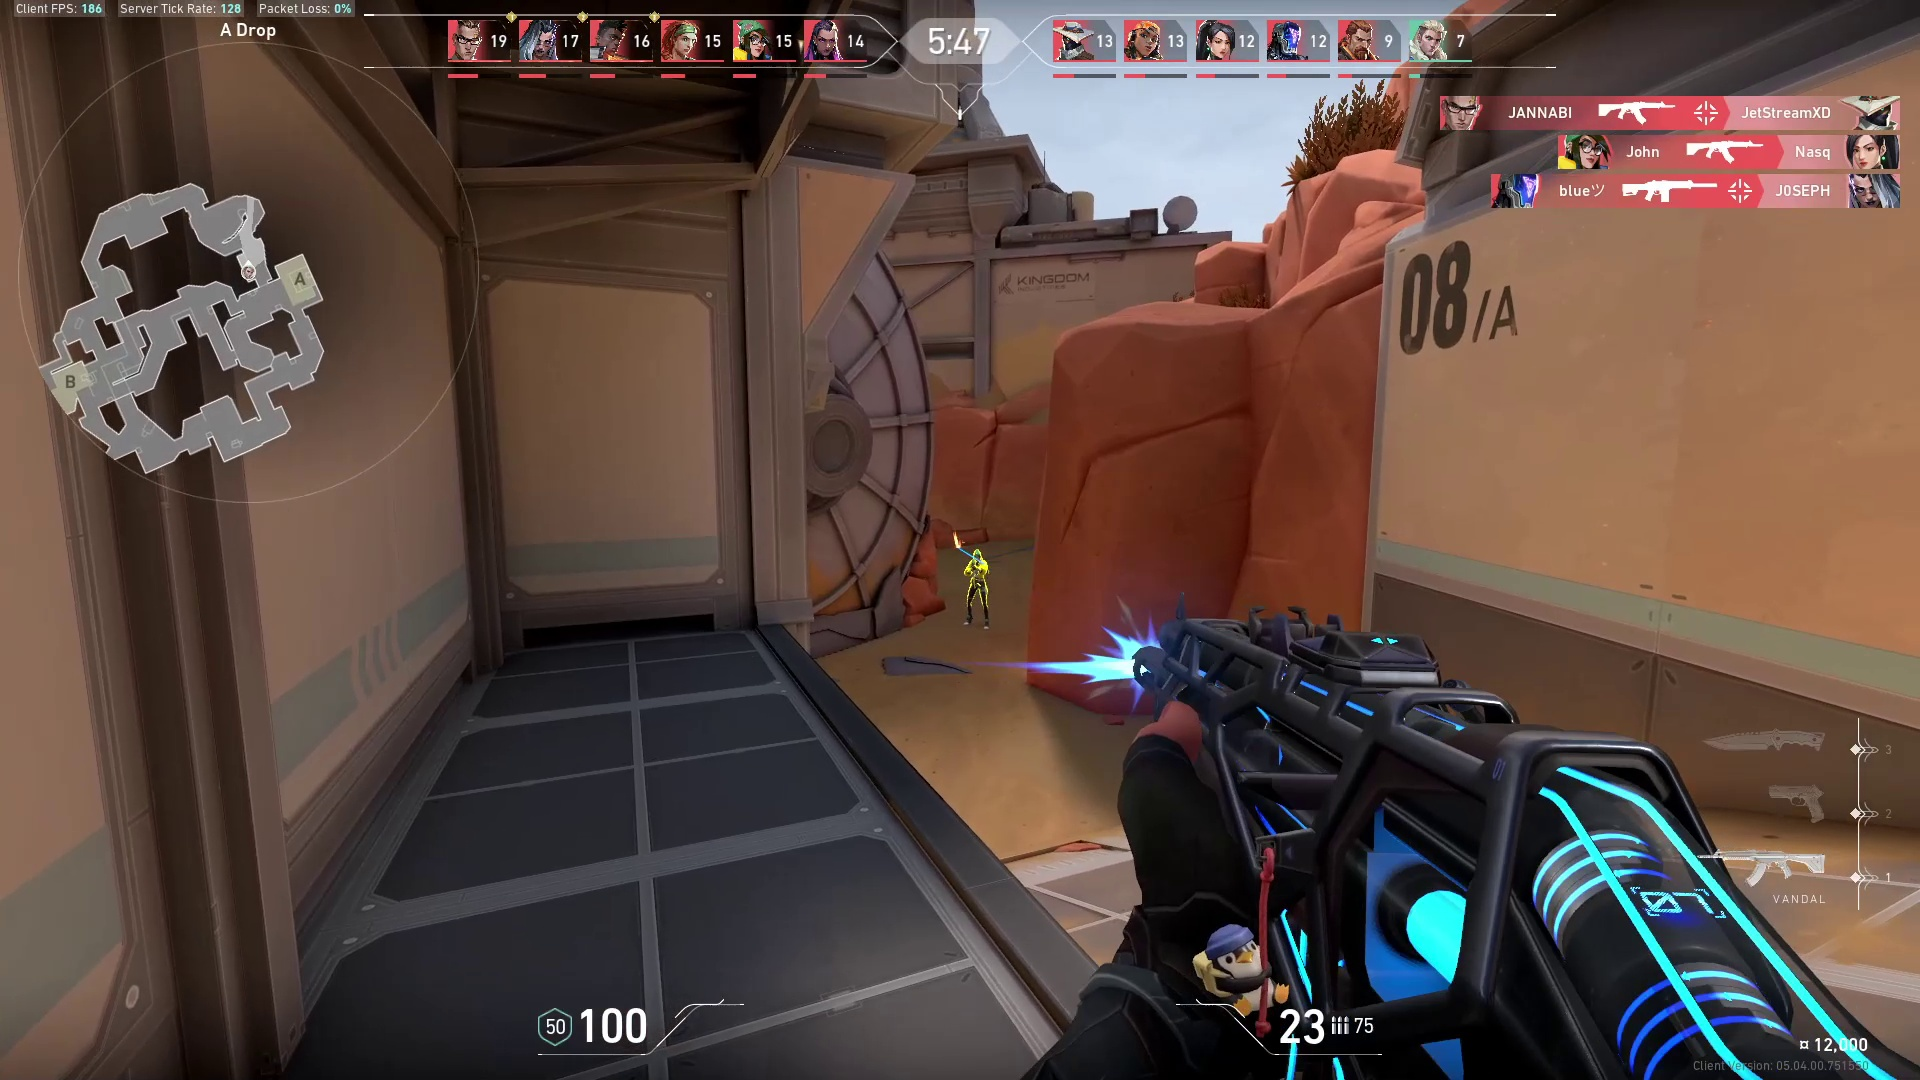enemy_body: (963, 559, 996, 632)
enemy_head: (971, 546, 982, 563)
